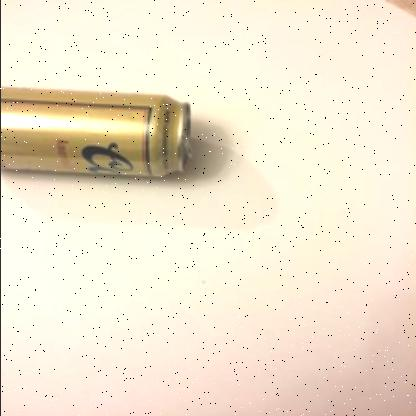Can: (1, 84, 192, 176)
